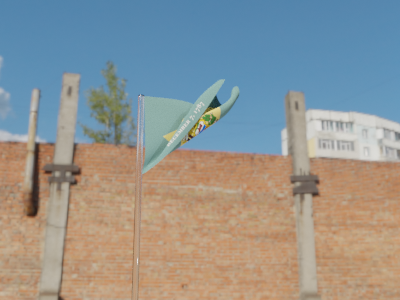Delaware flag: (142, 79, 244, 176)
